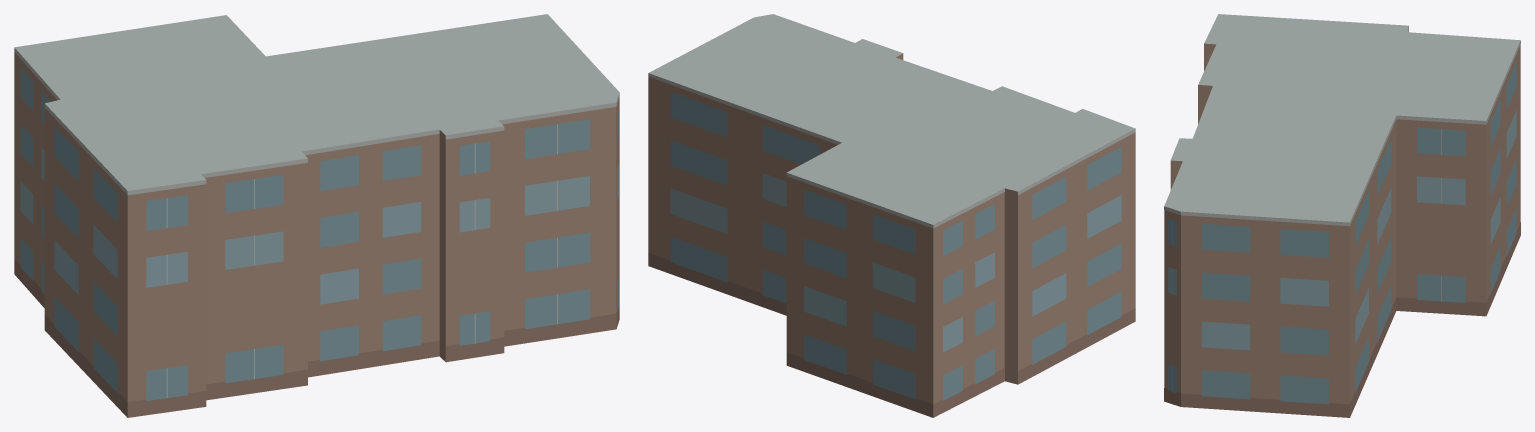
The model's file is survey-upis-32820973.glb.
3 renders of one model, left to right at view 1: azimuth 30°, elevation 25°; view 2: azimuth 150°, elevation 25°; view 3: azimuth 270°, elevation 25°, orthographic. The views are drawn at different scales.
Parts seen in each view (by area): view 1: survey-upis-32820973.tmp; view 2: survey-upis-32820973.tmp; view 3: survey-upis-32820973.tmp.
Part boxes in pixels (box(x1,y1,x2,y2)): survey-upis-32820973.tmp: box(14, 14, 619, 417); survey-upis-32820973.tmp: box(648, 14, 1135, 417); survey-upis-32820973.tmp: box(1164, 14, 1520, 417).
Bounding box in the file's own units: 29.55 × 12.9 × 21.35.
